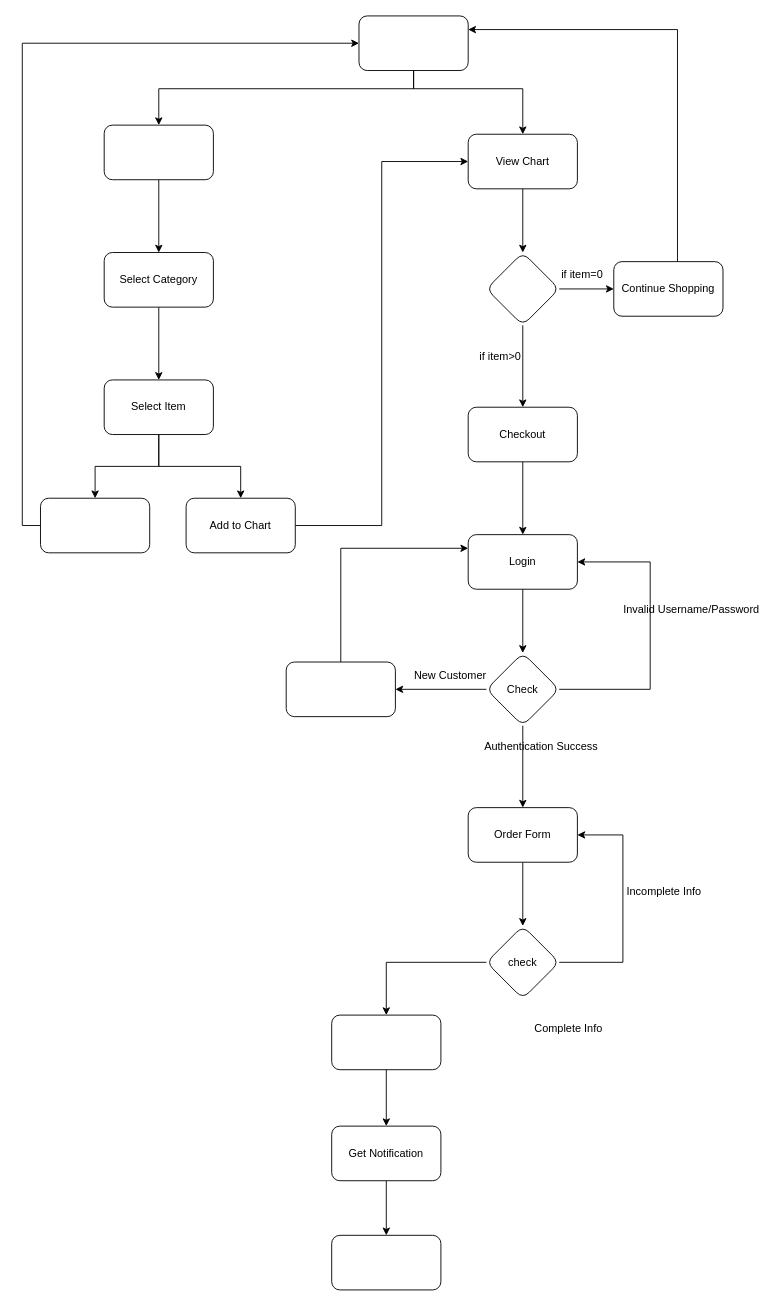
The diagram is 784 pixels wide and 1306 high, and some of its shapes have lost their labels. The shapes that lost their labels are listed below. From the top down, each one's centre as x and y in pixels, then its label:
At pixel 413 43: "Home Page".
At pixel 158 152: "Browse Category".
At pixel 95 525: "View Detaile".
At pixel 340 689: "Register".
At pixel 386 1042: "Place Order".
At pixel 386 1262: "Logout".
